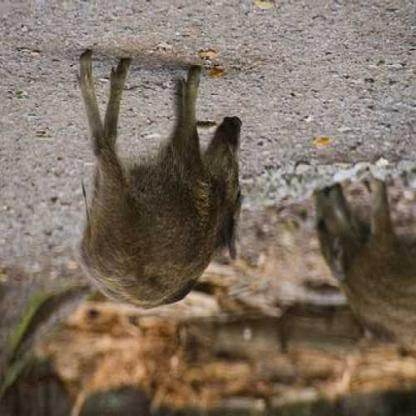boar: (47, 27, 295, 362), (301, 174, 415, 361)
